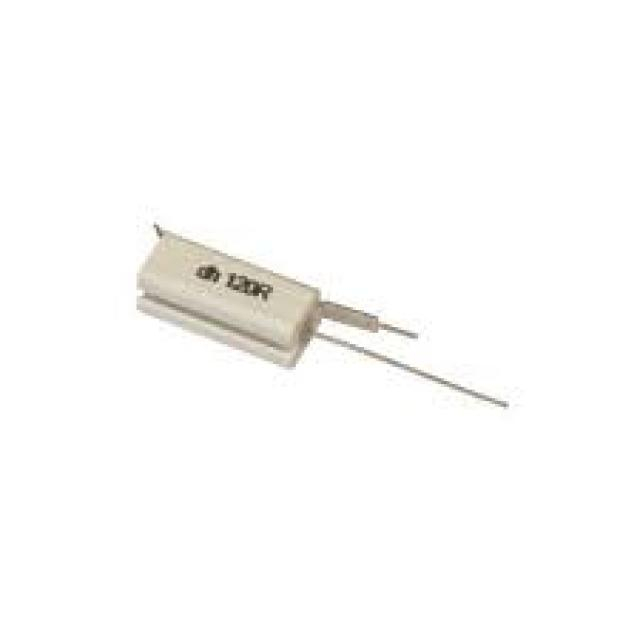Resistor: (137, 230, 316, 358), (315, 301, 377, 333)
